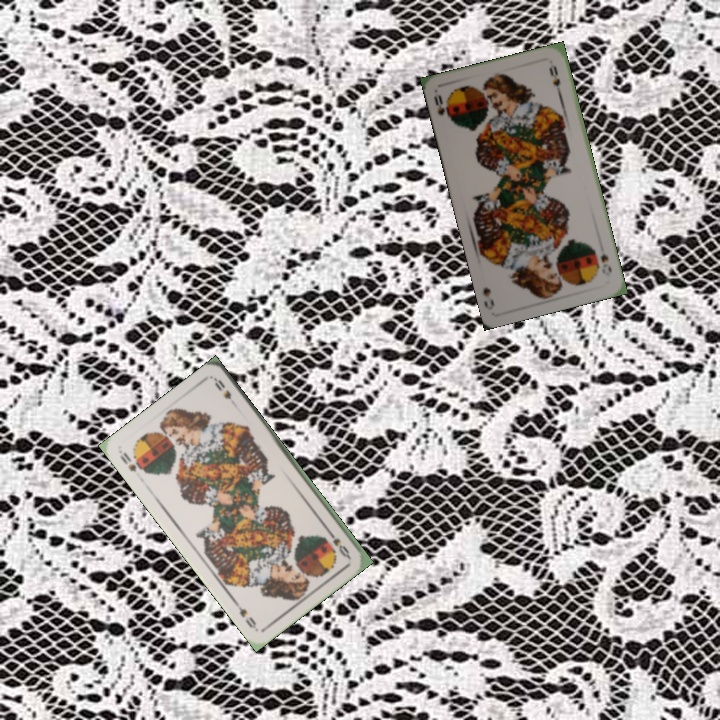SO: (323, 525, 352, 561), (430, 90, 454, 124), (116, 447, 144, 475), (595, 241, 614, 275)
